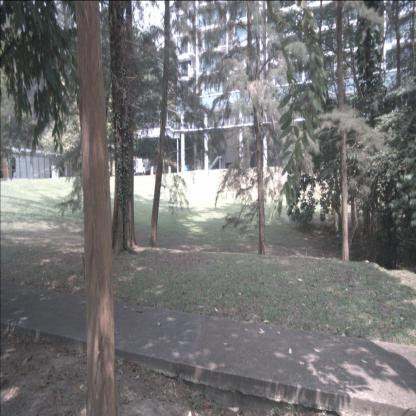human-pedestrian-adult: (49, 167, 52, 178)
vehicle-truck: (131, 158, 146, 176), (143, 159, 157, 175)
